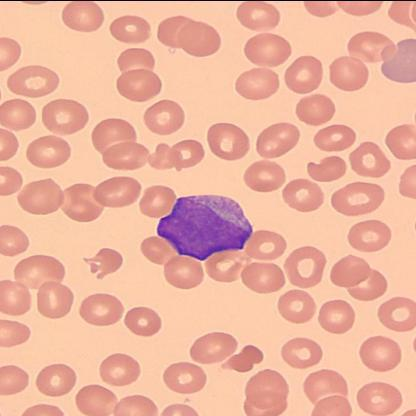Promyelocyte: (156, 195, 251, 259)
